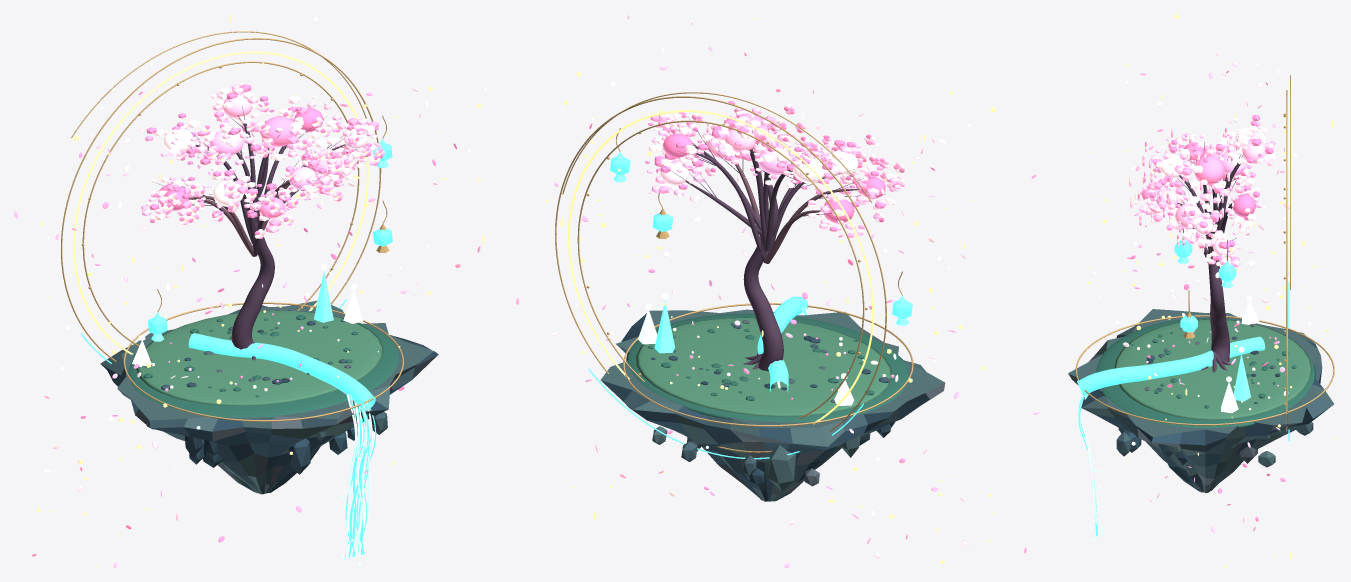
File: astral-garden.glb
The picture shows the model from 3 angles, left to right: view 1: azimuth 30°, elevation 25°; view 2: azimuth 150°, elevation 25°; view 3: azimuth 270°, elevation 25°; orthographic projection. The views are drawn at different scales.
Parts seen in each view (by area): view 1: 02a Warm uneven turf, 01 FLOATING ISLAND • hand faceted slate, 02 Soft moss cap, 03 River: celestial stream, 04 Sacred plum tree • tapering trunk, 09 Aureole / precision gold band 1, 09 Aureole / precision gold band 2, 09 Aureole / precision gold band 0, 02b Golden boundary inlaid, 05 Canopy underlight.003, 09b Offset sacred orbit, Hanging weathered stone.024; view 2: 02a Warm uneven turf, 01 FLOATING ISLAND • hand faceted slate, 02 Soft moss cap, 04 Sacred plum tree • tapering trunk, 09 Aureole / precision gold band 1, 09 Aureole / precision gold band 2, 09 Aureole / precision gold band 0, 02b Golden boundary inlaid, 03 River: celestial stream, Hanging weathered stone.028, 09b Offset sacred orbit, 04b Tree arm 06; view 3: 02a Warm uneven turf, 01 FLOATING ISLAND • hand faceted slate, 02 Soft moss cap, 03 River: celestial stream, 04 Sacred plum tree • tapering trunk, 02b Golden boundary inlaid, 09 Aureole / precision gold band 2, 09 Aureole / precision gold band 1, 05 Canopy underlight.003, 11 Prismatic aether obelisk, 05 Canopy underlight.006, 05 Canopy underlight.001.
Part boxes in pixels (<box>): 02a Warm uneven turf: <box>136,310,383,405</box>; 01 FLOATING ISLAND • hand faceted slate: <box>100,300,438,494</box>; 02 Soft moss cap: <box>128,322,398,419</box>; 03 River: celestial stream: <box>188,333,375,410</box>; 04 Sacred plum tree • tapering trunk: <box>231,148,274,349</box>; 09 Aureole / precision gold band 1: <box>73,51,368,354</box>; 09 Aureole / precision gold band 2: <box>61,38,381,361</box>; 09 Aureole / precision gold band 0: <box>82,61,359,346</box>; 02b Golden boundary inlaid: <box>123,302,403,421</box>; 05 Canopy underlight.003: <box>260,116,296,146</box>; 09b Offset sacred orbit: <box>71,31,367,137</box>; Hanging weathered stone.024: <box>289,438,310,474</box>; 02a Warm uneven turf: <box>635,317,892,416</box>; 01 FLOATING ISLAND • hand faceted slate: <box>600,309,945,501</box>; 02 Soft moss cap: <box>626,313,908,422</box>; 04 Sacred plum tree • tapering trunk: <box>743,172,783,371</box>; 09 Aureole / precision gold band 1: <box>568,110,874,424</box>; 09 Aureole / precision gold band 2: <box>555,96,886,452</box>; 09 Aureole / precision gold band 0: <box>577,120,864,418</box>; 02b Golden boundary inlaid: <box>623,303,913,426</box>; 03 River: celestial stream: <box>757,296,808,391</box>; Hanging weathered stone.028: <box>768,445,795,491</box>; 09b Offset sacred orbit: <box>562,92,872,202</box>; 04b Tree arm 06: <box>695,153,765,263</box>; 02a Warm uneven turf: <box>1114,319,1312,420</box>; 01 FLOATING ISLAND • hand faceted slate: <box>1068,309,1333,493</box>; 02 Soft moss cap: <box>1096,318,1315,428</box>; 03 River: celestial stream: <box>1077,336,1265,395</box>; 04 Sacred plum tree • tapering trunk: <box>1203,185,1229,363</box>; 02b Golden boundary inlaid: <box>1075,315,1334,425</box>; 09 Aureole / precision gold band 2: <box>1286,90,1287,431</box>; 09 Aureole / precision gold band 1: <box>1286,104,1287,413</box>; 05 Canopy underlight.003: <box>1194,156,1224,185</box>; 11 Prismatic aether obelisk: <box>1233,353,1250,401</box>; 05 Canopy underlight.006: <box>1231,194,1256,216</box>; 05 Canopy underlight.001: <box>1159,154,1183,178</box>.
Size of what is drawn, in the model's own units: 9.5 by 9.2 by 5.2.
